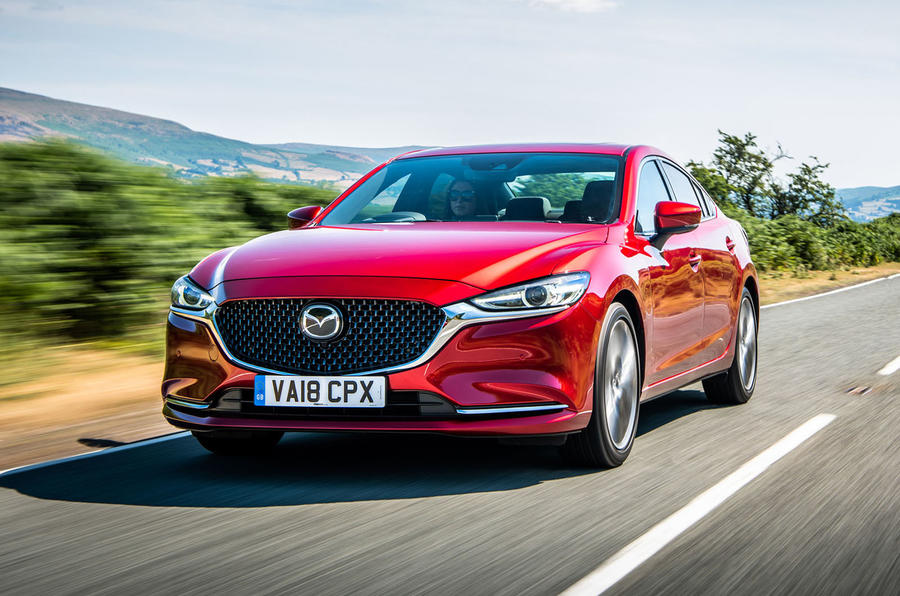sedan: (159, 141, 765, 473)
